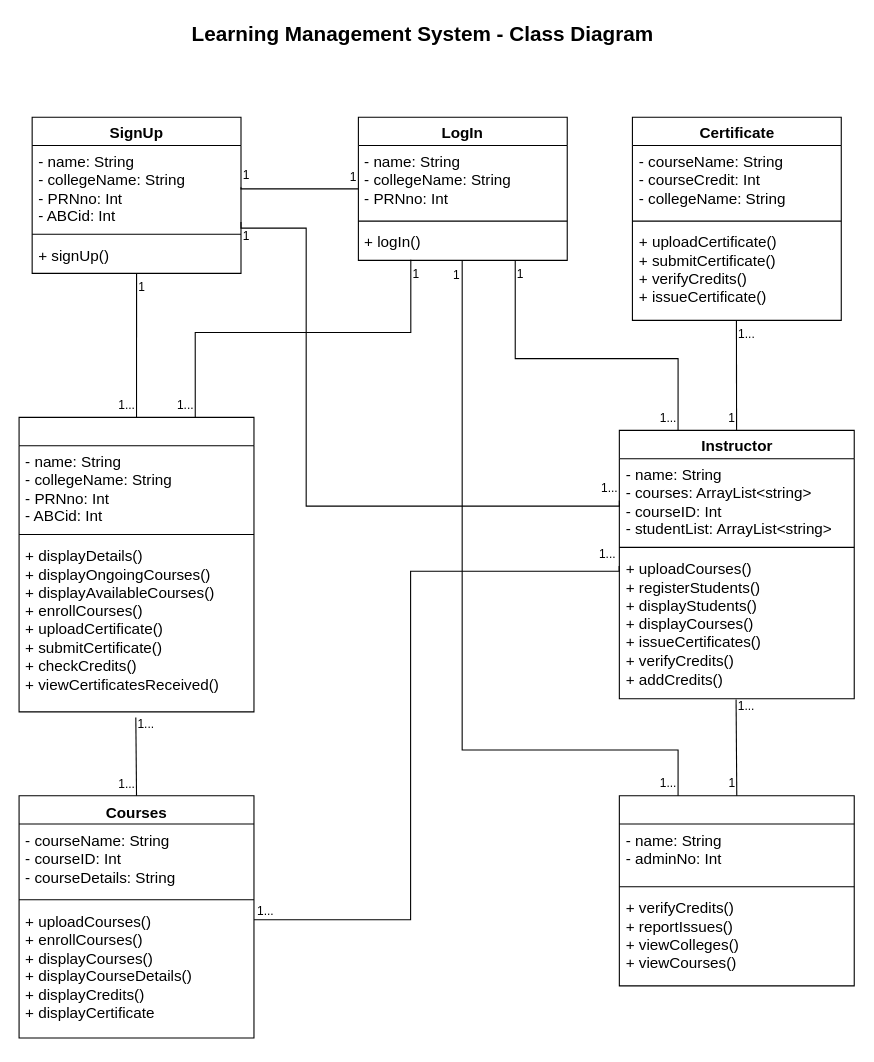
The diagram is 874 pixels wide and 1062 high, and some of its shapes have lost their labels. The box of each missing label's shape, as (x1, y1, x2, y2) in pixels:
Administrator: (618, 795, 854, 986)
Student: (18, 416, 254, 712)
